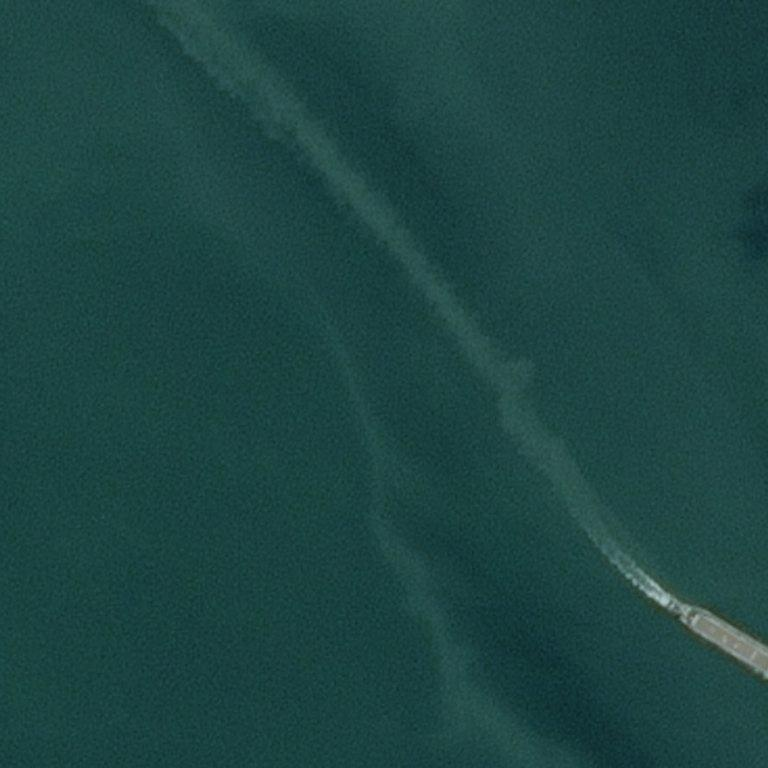ship: (710, 637, 730, 654), (685, 602, 692, 610), (678, 616, 684, 623), (763, 663, 766, 667)
